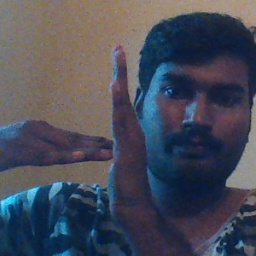Z: (25, 40, 154, 219)
